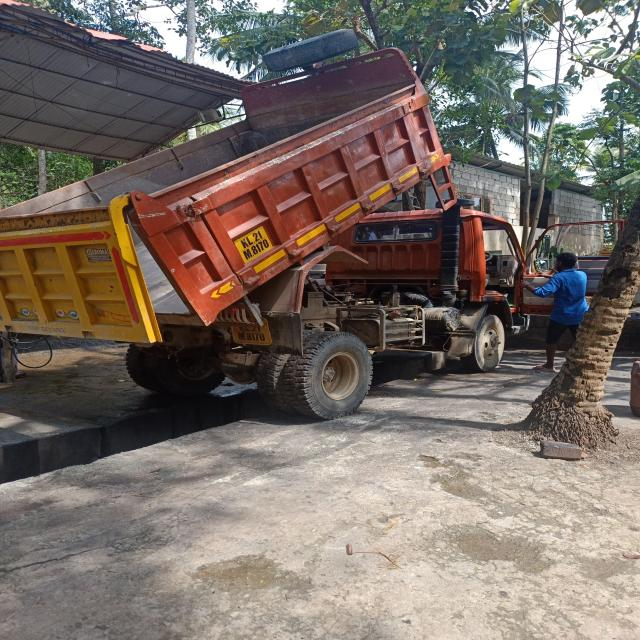Truck: (14, 39, 538, 413)
